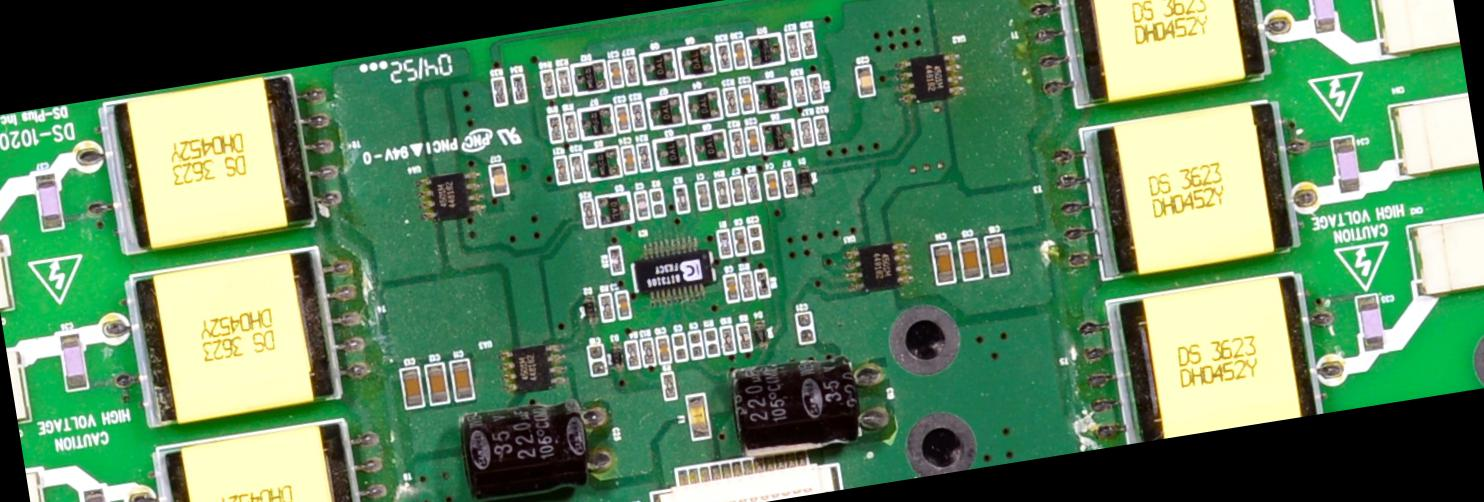Capacitor Jumper: (24, 159, 78, 246), (52, 322, 102, 401), (1321, 128, 1371, 202), (1349, 285, 1399, 354), (418, 350, 456, 410), (443, 352, 484, 405), (980, 226, 1018, 283), (1303, 0, 1354, 41), (924, 234, 962, 289), (392, 360, 428, 416), (955, 229, 988, 282), (481, 158, 516, 204), (790, 304, 824, 351), (848, 58, 879, 100), (617, 138, 643, 180), (630, 184, 658, 223), (610, 94, 634, 136), (77, 483, 128, 501), (745, 222, 770, 258), (730, 218, 753, 256), (670, 327, 692, 366), (723, 271, 745, 308), (743, 122, 767, 155), (729, 174, 752, 208), (685, 326, 706, 363), (764, 166, 786, 201), (654, 331, 676, 366), (730, 37, 752, 70), (738, 83, 758, 116), (606, 55, 624, 90)
Connector: (632, 424, 876, 501), (1387, 202, 1483, 308), (1384, 85, 1480, 190), (1364, 0, 1462, 69), (5, 341, 56, 441), (0, 218, 40, 329)
IC: (624, 232, 722, 308), (406, 160, 492, 237), (890, 43, 974, 116), (834, 235, 922, 301), (491, 331, 571, 400)
Resistor Jumper: (598, 239, 630, 280), (716, 317, 742, 358), (668, 176, 694, 216), (596, 286, 622, 324), (506, 68, 531, 107), (694, 176, 718, 216), (638, 330, 662, 370), (714, 34, 738, 74), (575, 192, 600, 230), (620, 53, 644, 92), (812, 111, 837, 148), (799, 22, 824, 59), (635, 136, 659, 174), (623, 334, 647, 372), (552, 60, 576, 98), (649, 181, 672, 220), (536, 64, 559, 103), (714, 224, 738, 261), (562, 108, 584, 148), (712, 174, 736, 210), (488, 72, 512, 108), (734, 320, 759, 354), (629, 96, 652, 132), (612, 284, 634, 321), (795, 114, 818, 149), (805, 70, 828, 104), (553, 151, 574, 188), (726, 126, 748, 161), (738, 266, 759, 302), (720, 82, 742, 116), (744, 170, 766, 204), (704, 326, 726, 360), (570, 150, 590, 187), (752, 265, 772, 302), (544, 110, 566, 143), (788, 74, 808, 106), (783, 28, 802, 60)
Transistor: (641, 86, 688, 134), (636, 42, 682, 90), (649, 130, 692, 171), (678, 39, 718, 80), (684, 85, 722, 124), (688, 127, 729, 163)
